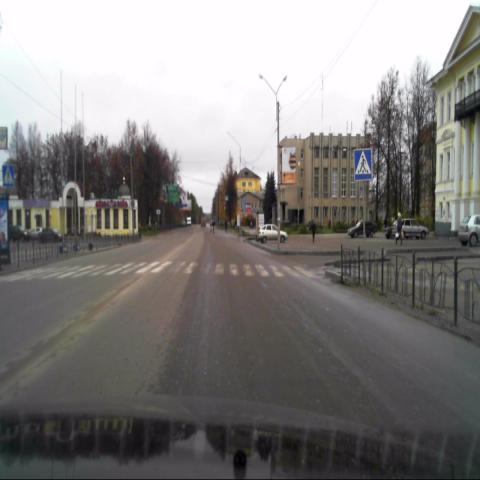5_19_1: (354, 148, 372, 181), (2, 165, 14, 185)
